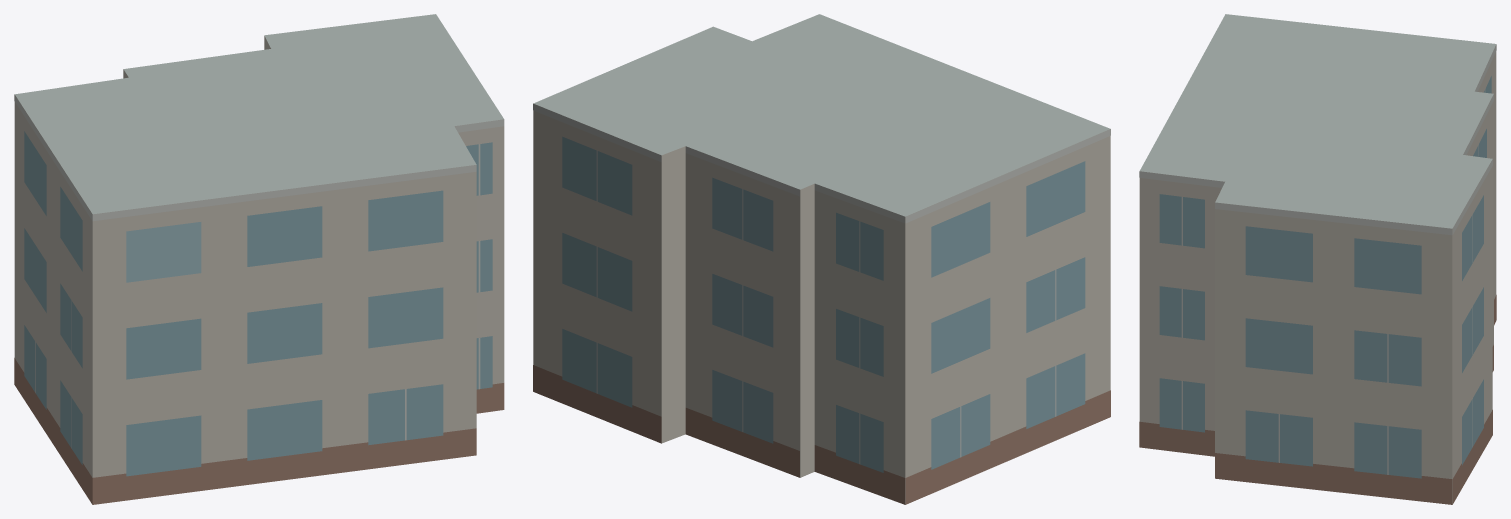
The model's file is survey-upis-32687221.glb.
3 renders of one model, left to right at view 1: azimuth 30°, elevation 25°; view 2: azimuth 150°, elevation 25°; view 3: azimuth 270°, elevation 25°, orthographic. The views are drawn at different scales.
Parts seen in each view (by area): view 1: survey-upis-32687221.tmp; view 2: survey-upis-32687221.tmp; view 3: survey-upis-32687221.tmp.
Part boxes in pixels (x1,y1,x2,y2): survey-upis-32687221.tmp: (14,14,504,504); survey-upis-32687221.tmp: (533,14,1110,504); survey-upis-32687221.tmp: (1139,14,1496,504).
Bounding box in the file's own units: 17.01 × 10.2 × 11.96.
